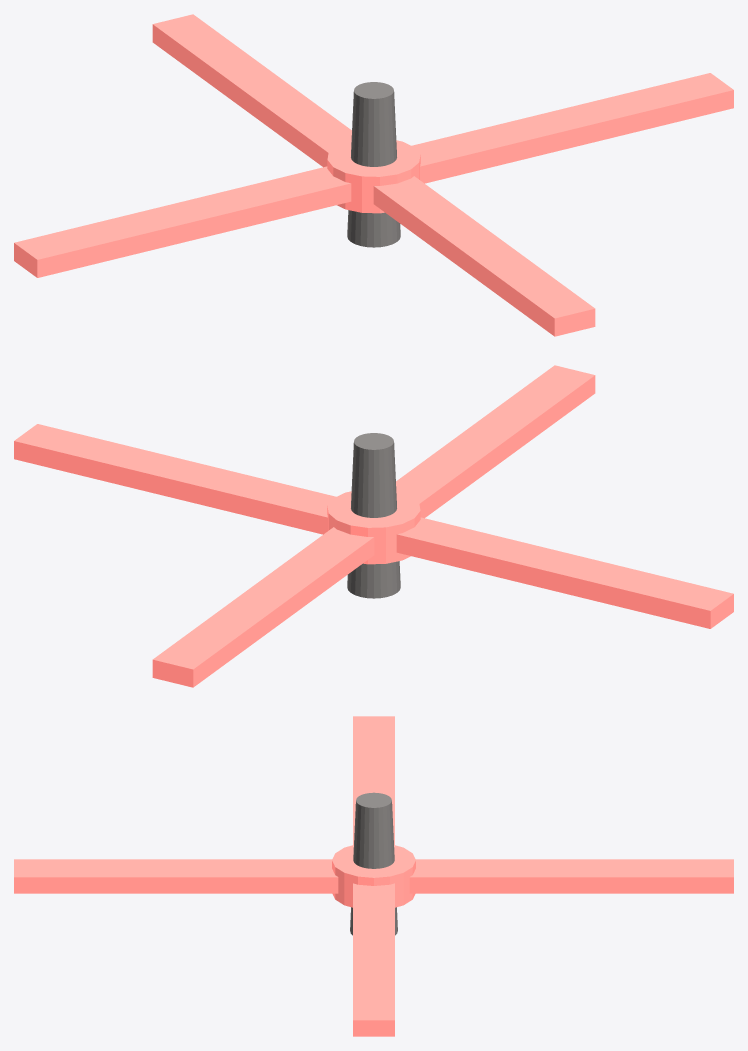
The model's file is rotor.glb.
3 renders of one model, top to bottom at view 1: azimuth 30°, elevation 25°; view 2: azimuth 150°, elevation 25°; view 3: azimuth 270°, elevation 25°, orthographic. The views are drawn at different scales.
Parts seen in each view (by area): view 1: RotorKlingen, RotorSaeule; view 2: RotorKlingen, RotorSaeule; view 3: RotorKlingen, RotorSaeule.
Boxes of the visible parts, x1,y1,x2,y2 form: RotorKlingen: (14, 14, 733, 336); RotorSaeule: (347, 82, 400, 247); RotorKlingen: (14, 365, 733, 687); RotorSaeule: (347, 433, 400, 598); RotorKlingen: (14, 716, 733, 1036); RotorSaeule: (350, 792, 397, 935).
Bounding box in the file's own units: 6 × 1.2 × 6.
